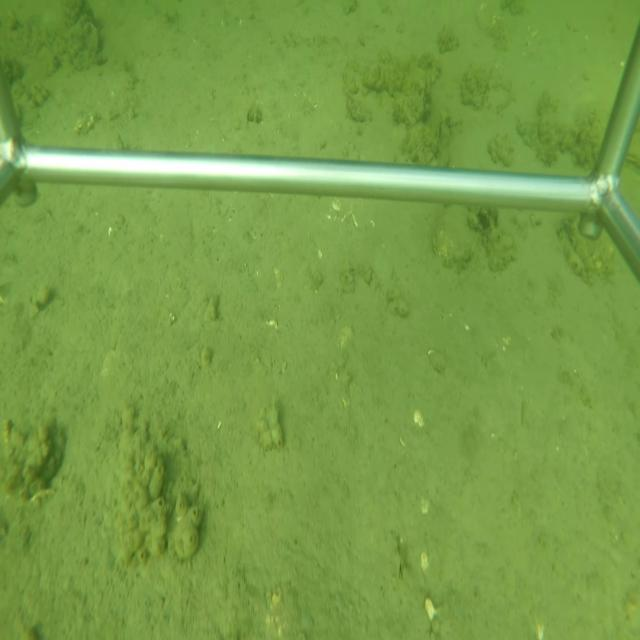Oyster-Indeterminate: (430, 205, 475, 270)
